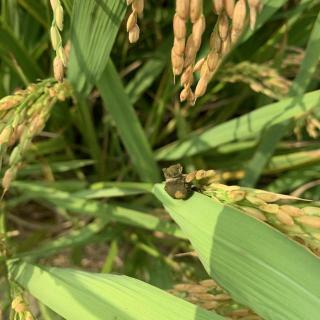Gosong-Palsu: (162, 163, 196, 200)
